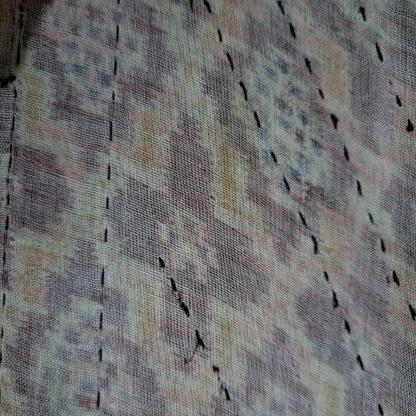spot: (208, 132, 266, 242)
